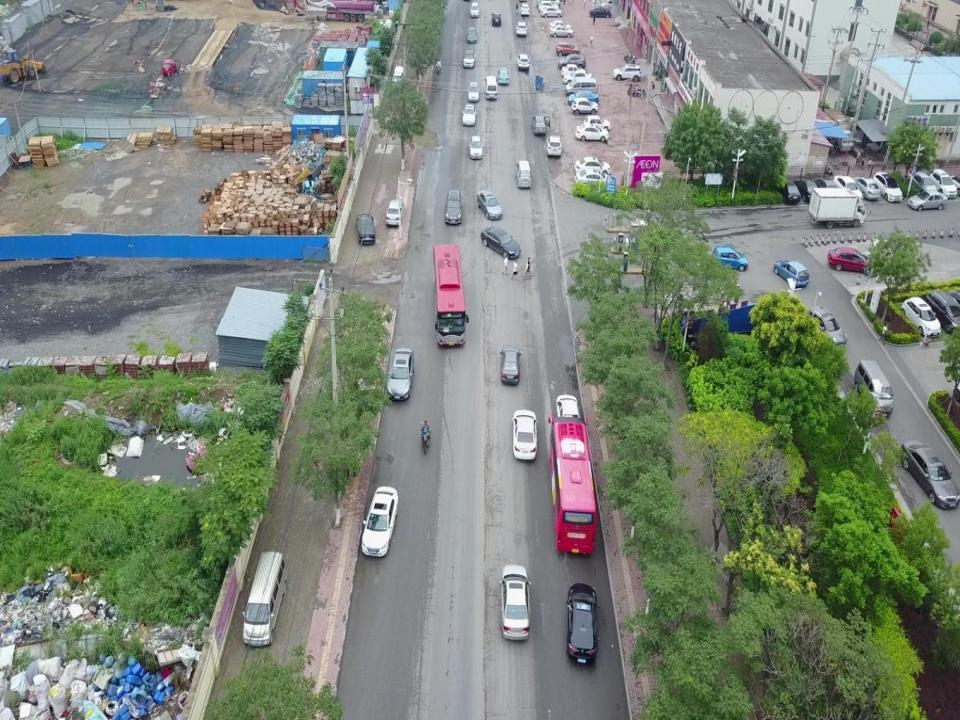bus: (549, 415, 597, 555), (433, 244, 468, 346)
car: (900, 438, 960, 512), (564, 581, 599, 665), (361, 484, 400, 557), (498, 565, 532, 641), (808, 304, 847, 350), (900, 296, 941, 337), (925, 287, 960, 333), (388, 348, 414, 401), (511, 410, 538, 461), (480, 225, 520, 259), (828, 247, 876, 272), (773, 258, 809, 288), (711, 246, 747, 274), (833, 172, 862, 204), (908, 190, 948, 213), (499, 347, 522, 385), (875, 172, 902, 204), (907, 170, 937, 197), (930, 167, 956, 198), (555, 393, 579, 426), (476, 191, 502, 221), (573, 168, 611, 188), (852, 175, 881, 201), (354, 212, 376, 243), (575, 156, 612, 174), (445, 189, 463, 225), (812, 173, 835, 201), (576, 123, 608, 143), (777, 177, 801, 203), (794, 176, 818, 200), (566, 90, 599, 105), (386, 200, 405, 226), (614, 62, 640, 81), (572, 98, 597, 116), (564, 70, 592, 86), (558, 54, 586, 70), (584, 114, 610, 131), (530, 114, 550, 136), (556, 40, 580, 57), (468, 136, 484, 160), (546, 134, 562, 157), (588, 5, 612, 19), (561, 63, 585, 76), (547, 20, 572, 32), (463, 104, 476, 126), (540, 6, 563, 18), (549, 26, 573, 37), (463, 49, 476, 69), (468, 82, 480, 101), (517, 54, 529, 72), (466, 27, 478, 44), (490, 12, 502, 28), (497, 67, 508, 84), (538, 2, 560, 10), (516, 22, 528, 36), (520, 3, 530, 17)
truck: (809, 189, 866, 230)
van: (244, 550, 288, 648), (855, 357, 894, 419), (566, 77, 598, 95), (516, 161, 532, 190), (484, 75, 498, 100), (469, 1, 480, 18)
